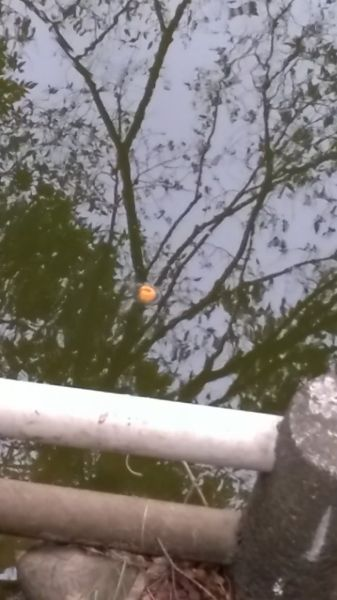eggs: (132, 280, 161, 306)
